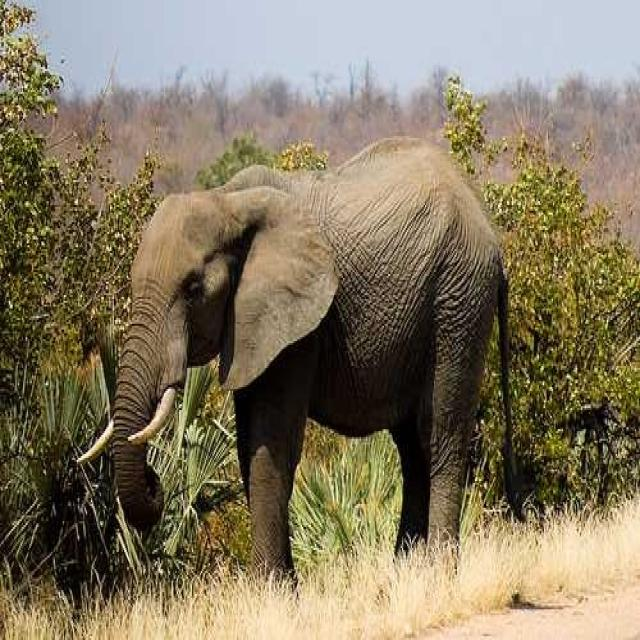Elephant: (76, 132, 517, 592)
